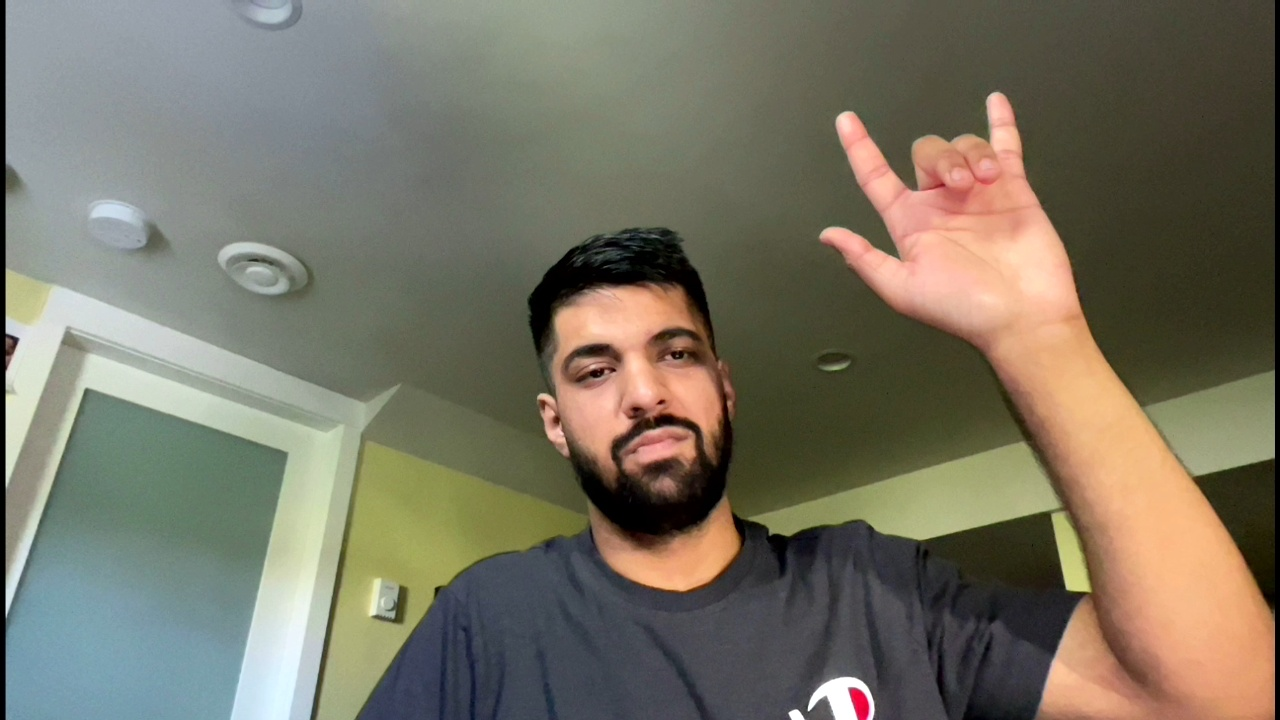HowYouDoing!: (803, 87, 1111, 332)
